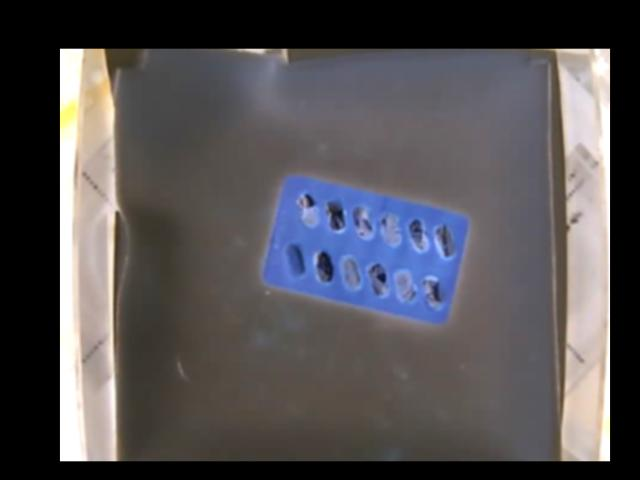Medicine: (262, 175, 468, 322)
